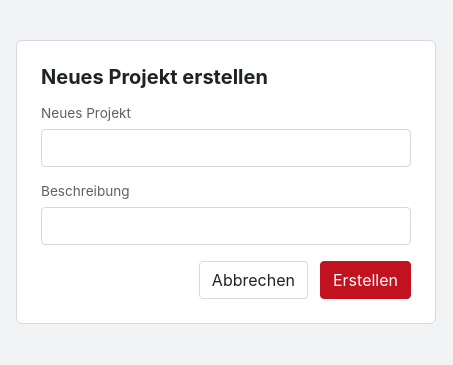
M7-S03 new project dialog › conflict handling › shows error when createProject throws a conflict error
Type "Existing World" into the field labelled "Neues Projekt" at (226, 148), box [41,129,411,167]
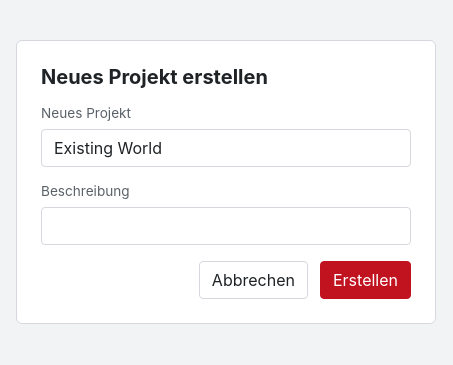
Click the button "Erstellen" at (366, 280), box [320,261,411,299]
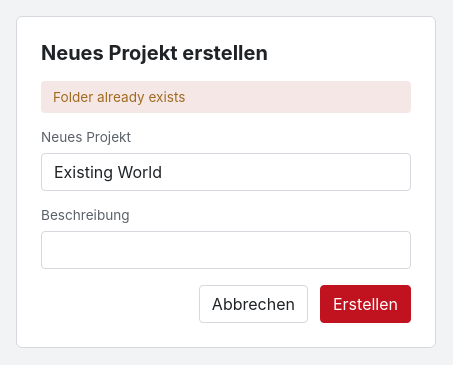
Now the message "Folder already exists" is shown, box [41,81,411,113]
